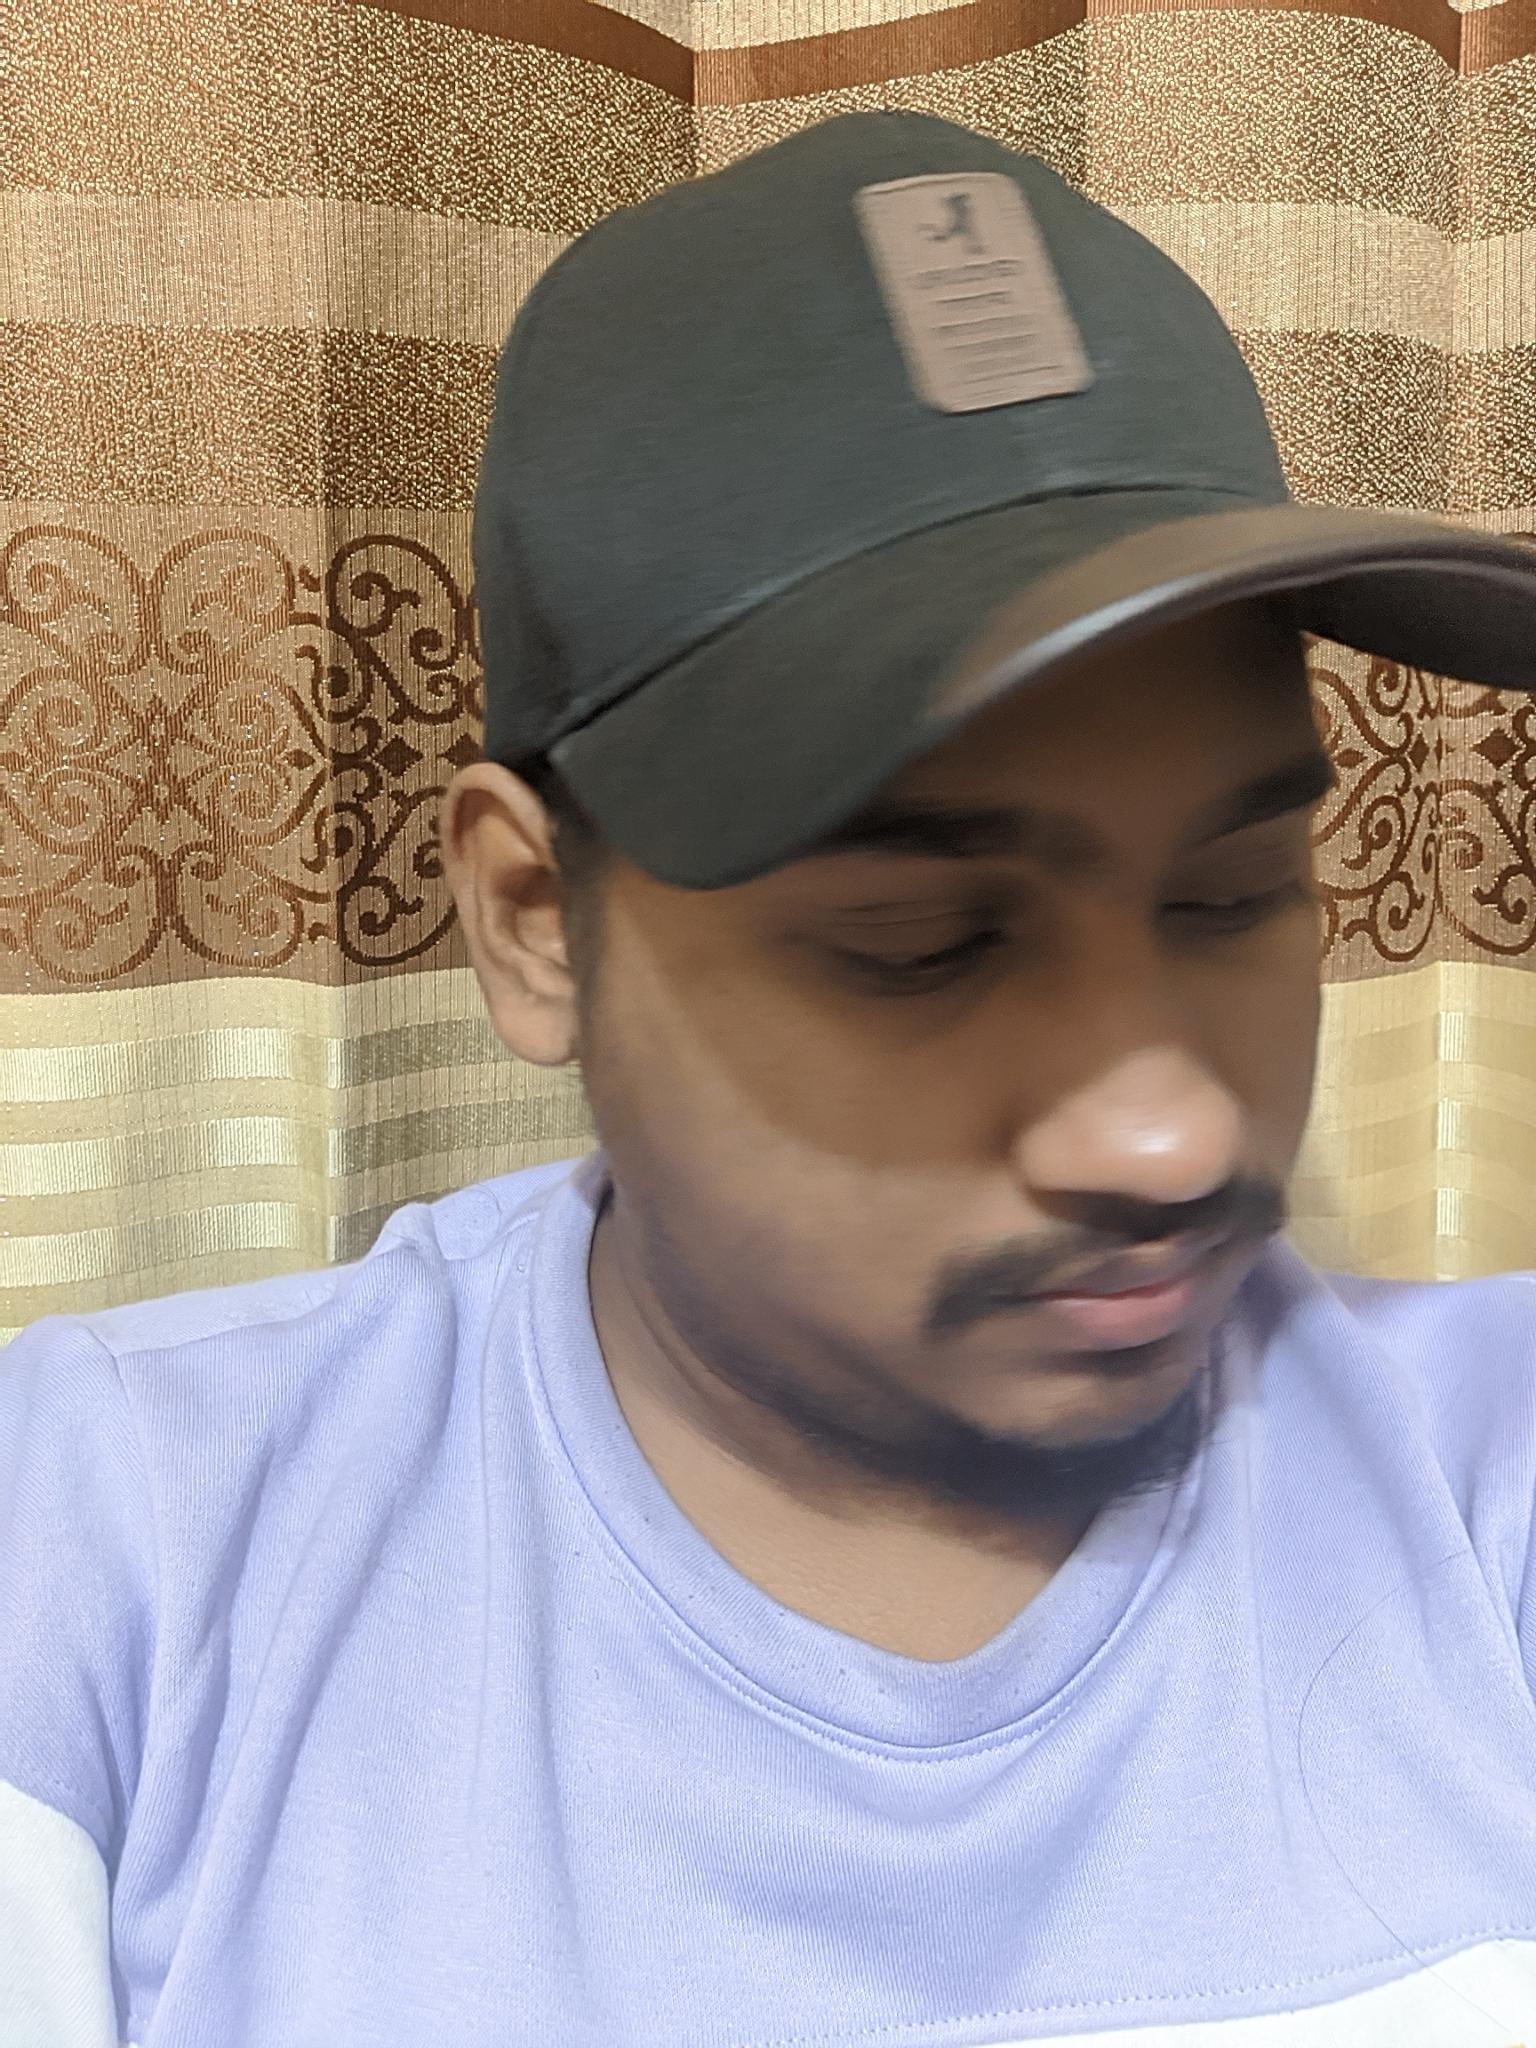Neutral: (739, 727, 1421, 1464)
